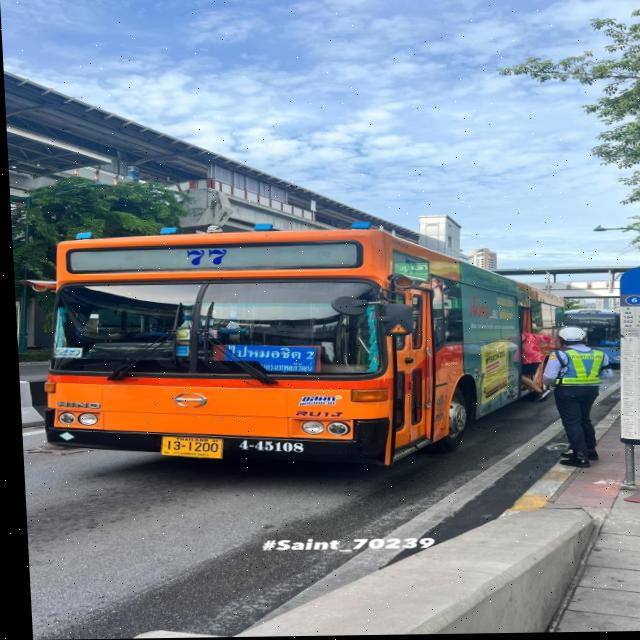BMTA-bus: (39, 231, 561, 468)
Bus Line Number: (166, 246, 241, 268)
Bus Side Number: (227, 436, 308, 459)
Destination Sign: (212, 342, 318, 377)
